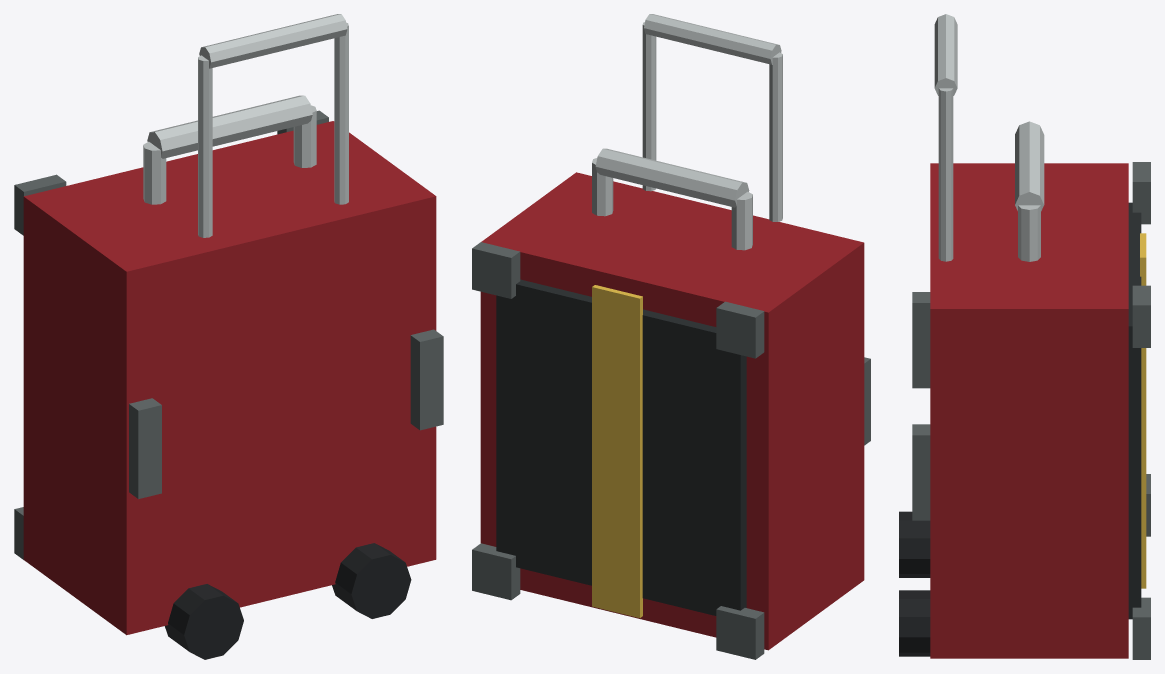
Rendered from HomebaseTravelSuitcase_LOD00.gltf.
3 views of the same model, side by side, from view 1: azimuth 30°, elevation 25°; view 2: azimuth 150°, elevation 25°; view 3: azimuth 270°, elevation 25° (orthographic). The views are drawn at different scales.
Parts seen in each view (by area): view 1: HomebaseTravelSuitcase_node; view 2: HomebaseTravelSuitcase_node; view 3: HomebaseTravelSuitcase_node.
Part boxes in pixels (<box>): HomebaseTravelSuitcase_node: <box>14,14,443,659</box>; HomebaseTravelSuitcase_node: <box>472,14,870,659</box>; HomebaseTravelSuitcase_node: <box>899,14,1150,659</box>.
Size of the model in its own units: 0.66 by 1.2 by 0.4825.
